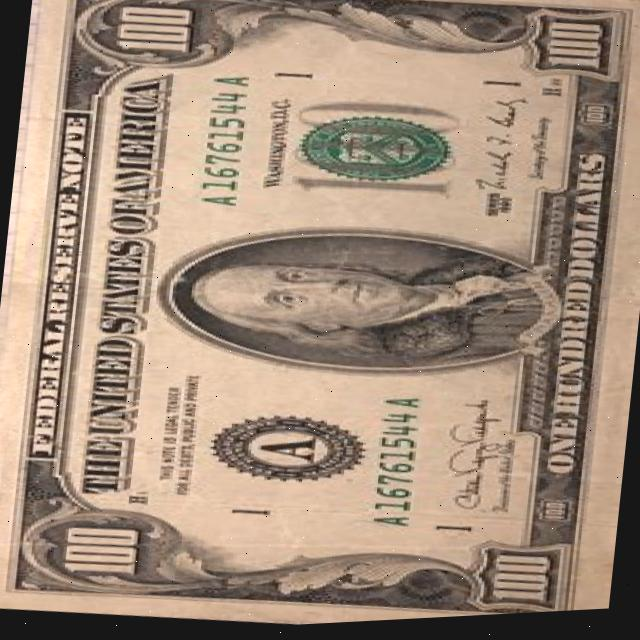banknote: (0, 0, 640, 640), (283, 91, 470, 213), (540, 282, 598, 482), (461, 538, 576, 621), (48, 511, 154, 588), (524, 17, 622, 84), (110, 0, 196, 62), (576, 102, 614, 136)
